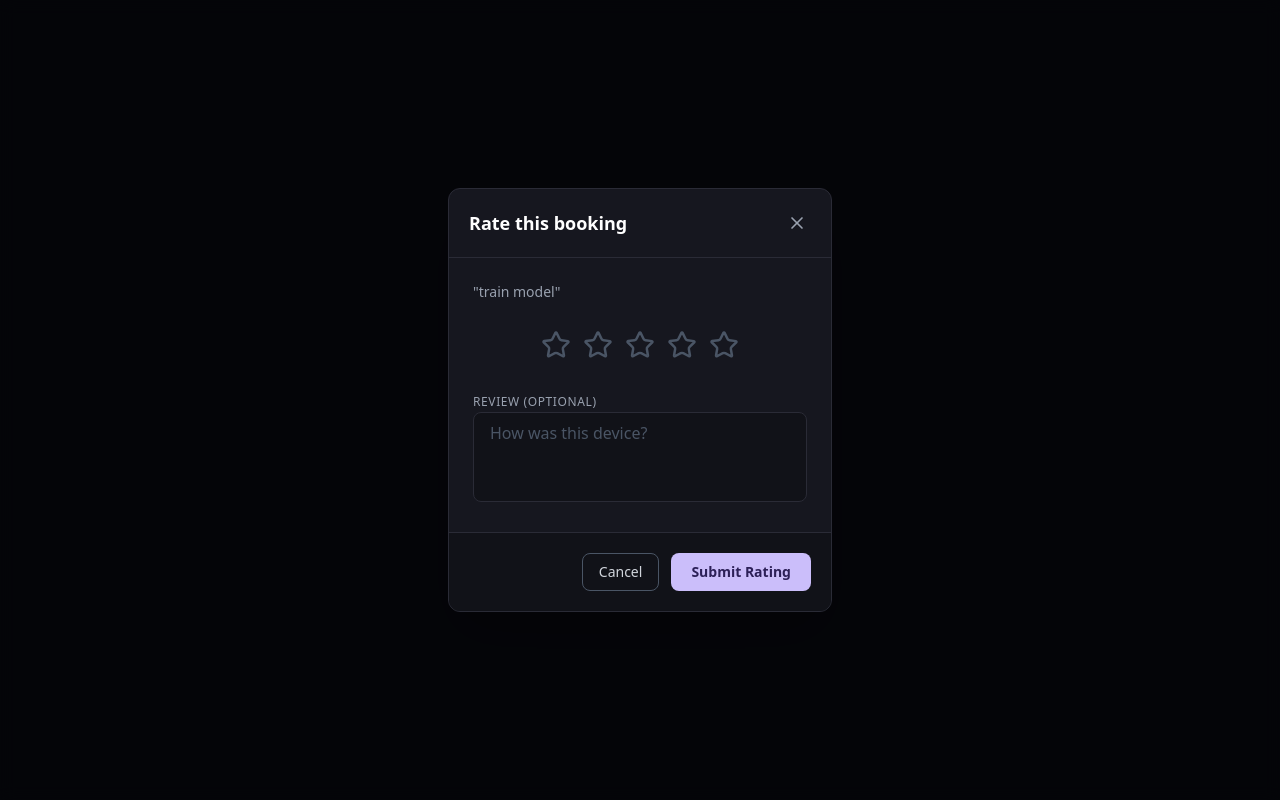
Test: RatingModal › shows an error if submitted without selecting a star
The image size is (1280, 800).
Click the button "Submit Rating": (741, 572) x1=671 y1=553 x2=811 y2=591
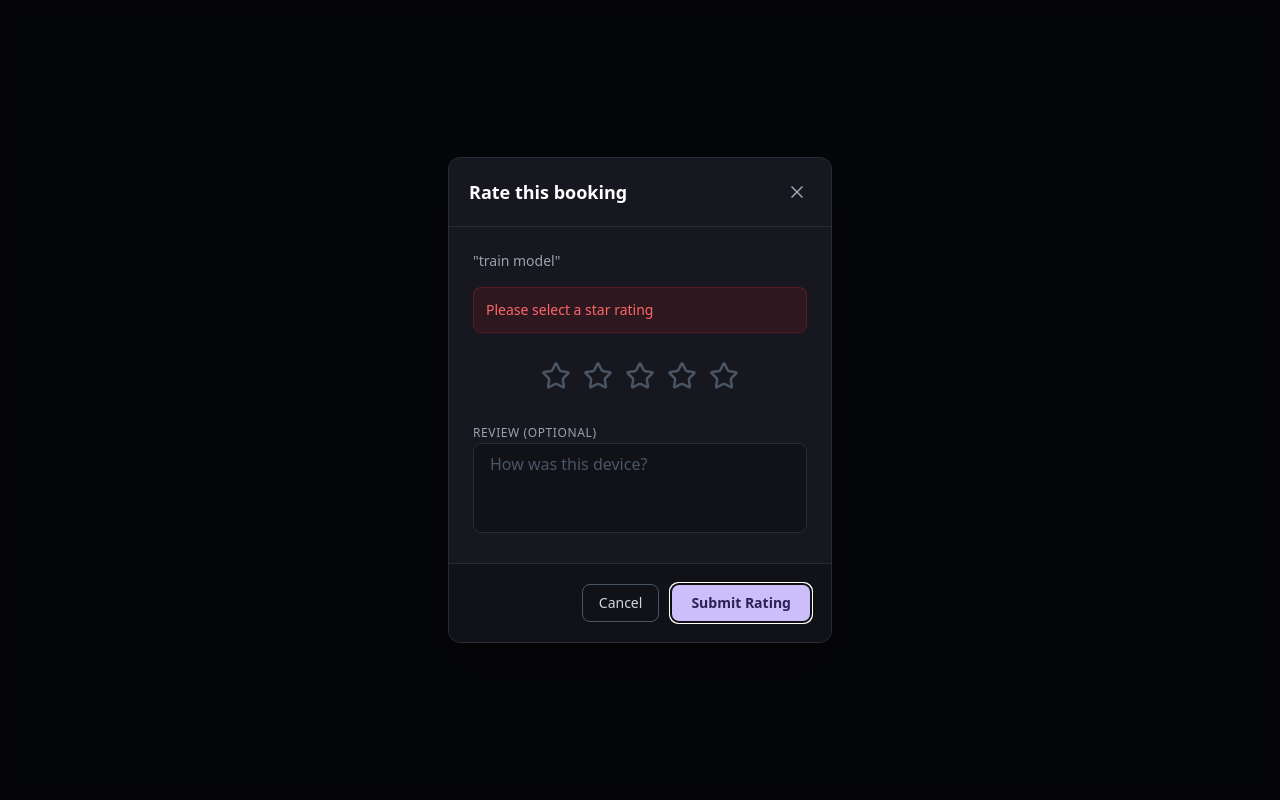
Result: the text "Please select a star rating" is shown at x1=473 y1=287 x2=807 y2=333
